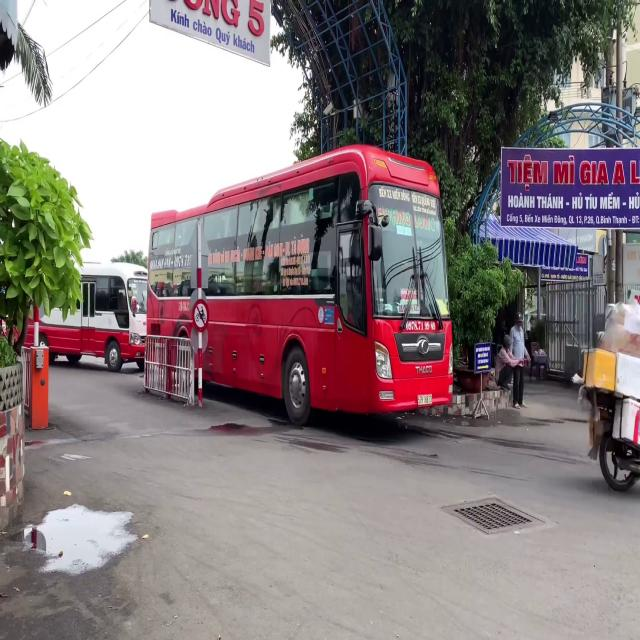bien_trang: (417, 392, 434, 406)
